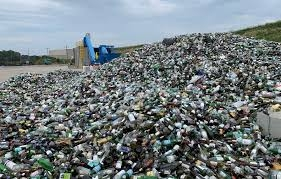glass: (34, 155, 56, 172), (229, 136, 255, 146), (161, 137, 184, 146), (207, 155, 226, 162)
